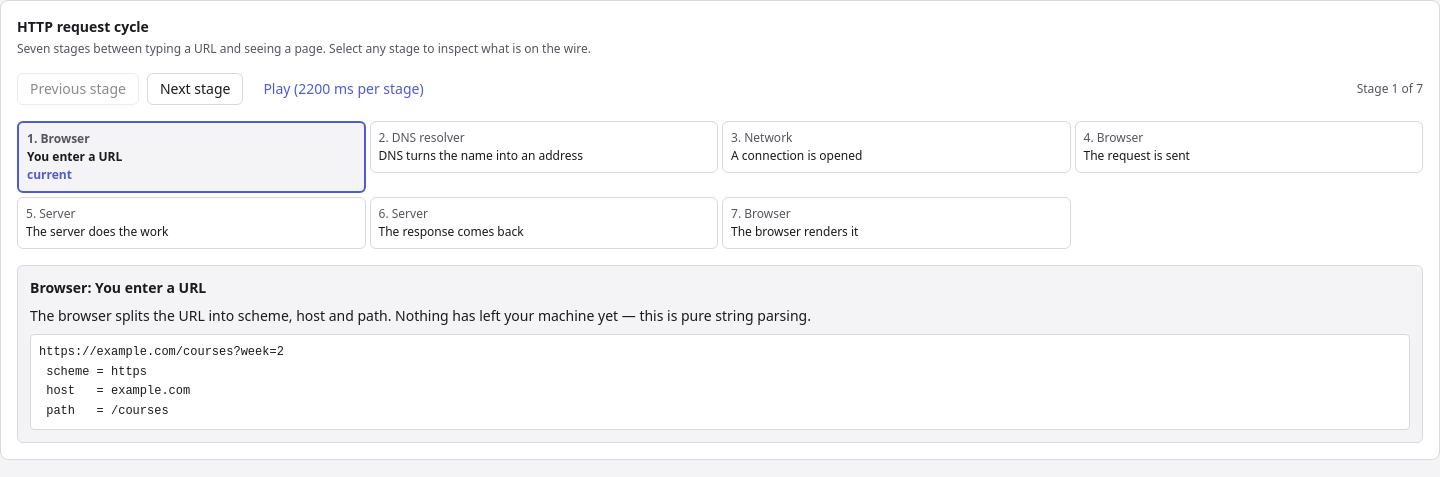
HTTPCycleDiagram › disables Previous at the start and Next at the end
This screenshot has width=1440, height=477.
Expected: the button "Previous stage" is disabled, 17,73 -> 139,105
Click the button "7. Browser The browser renders it". click: (767, 214)
box: 722,197 -> 1070,249
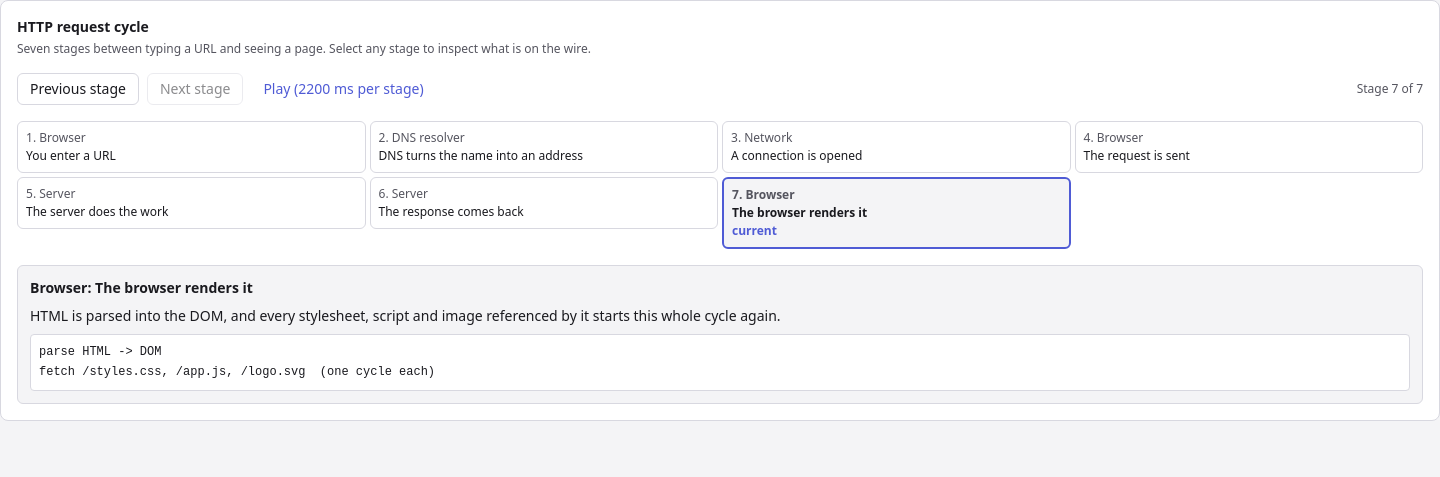
Now the button "Next stage" is disabled, box 147,73 -> 243,105
